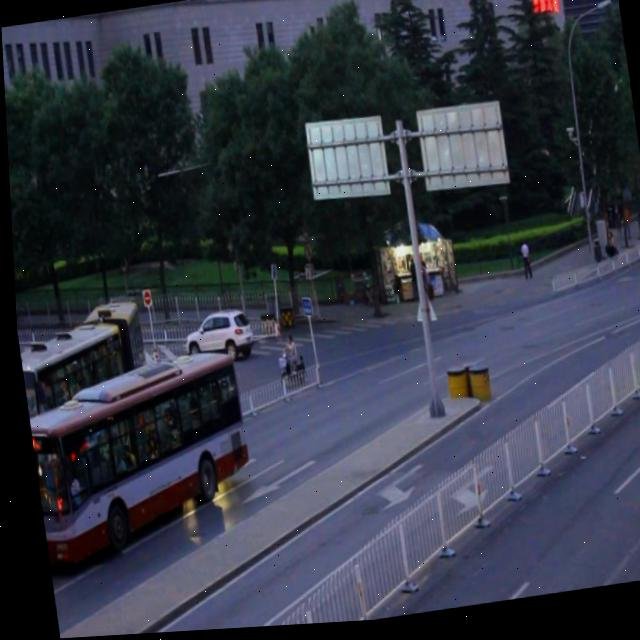car: (182, 298, 254, 361), (141, 331, 198, 398)
van: (19, 349, 252, 570), (12, 296, 151, 435)
